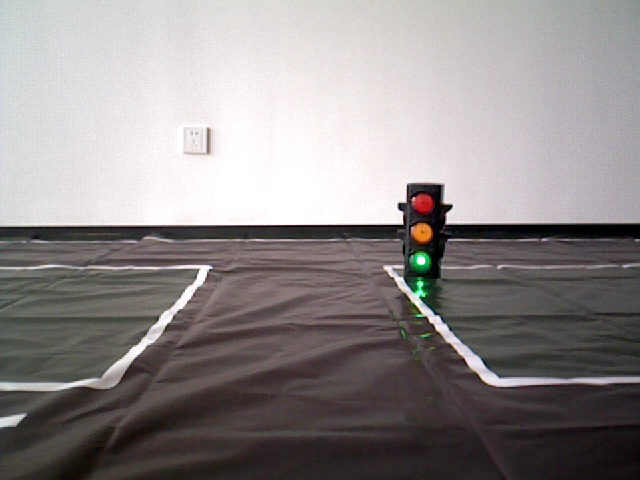green: (409, 185, 437, 273)
